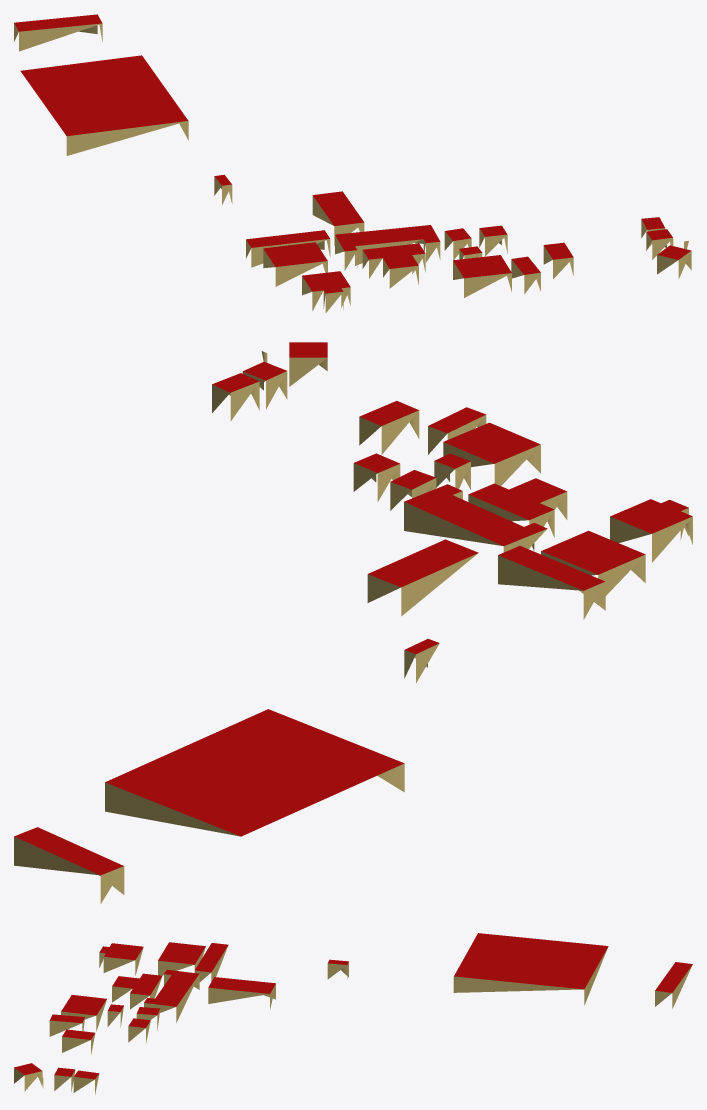
3 views of the same model, one above another, from view 1: azimuth 30°, elevation 25°; view 2: azimuth 150°, elevation 25°; view 3: azimuth 270°, elevation 25° (orthographic). The views are drawn at different scales.
Bounding box in the file's own units: 143 × 7.5 × 280.
